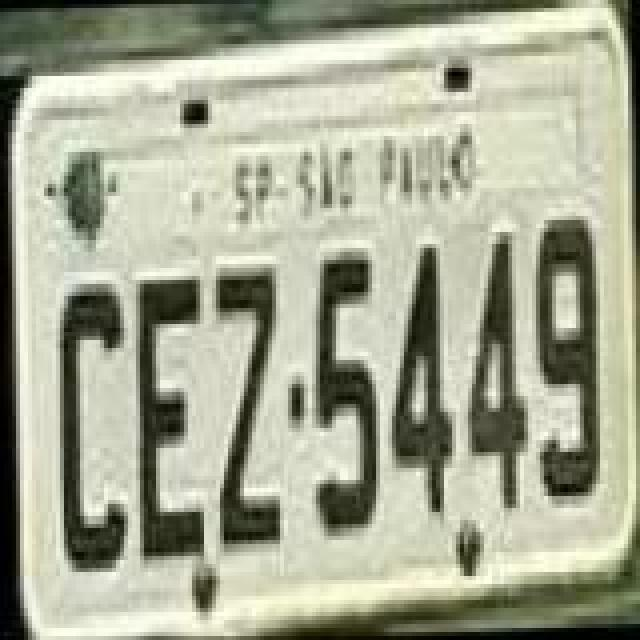4: (458, 232, 530, 516), (382, 244, 454, 520)
5: (304, 250, 380, 538)
9: (528, 218, 604, 510)
C: (50, 286, 130, 578)
E: (130, 274, 210, 566)
Z: (208, 264, 284, 548)
